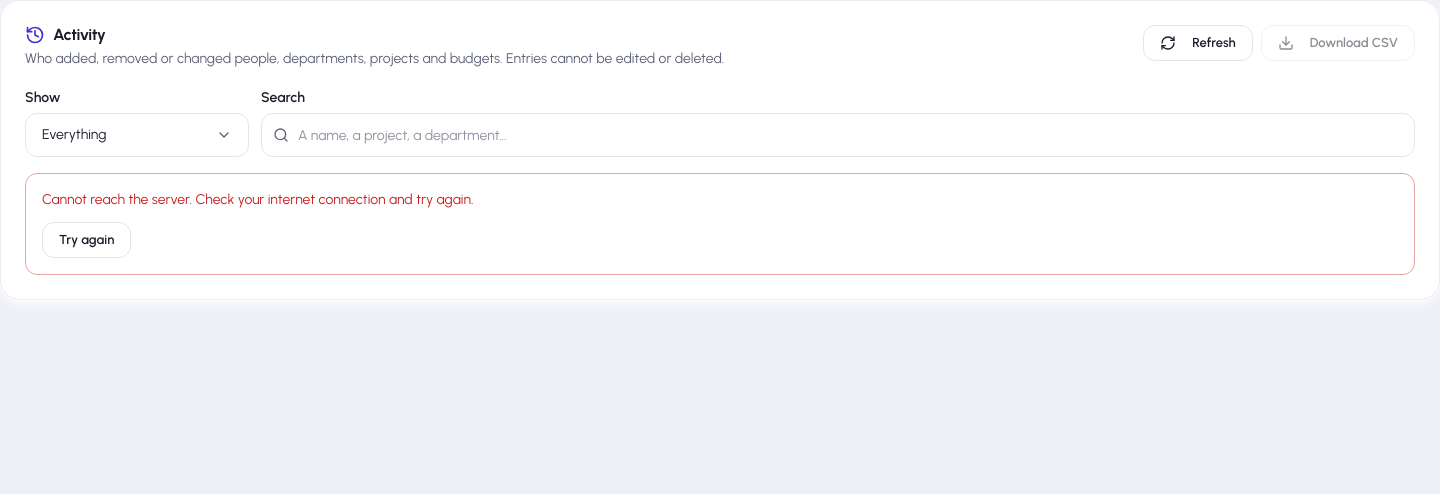
Test case: ActivityLog › a failed load can be retried
Click the button "Try again". click: coordinates (87, 240)
box: x1=42 y1=222 x2=131 y2=258
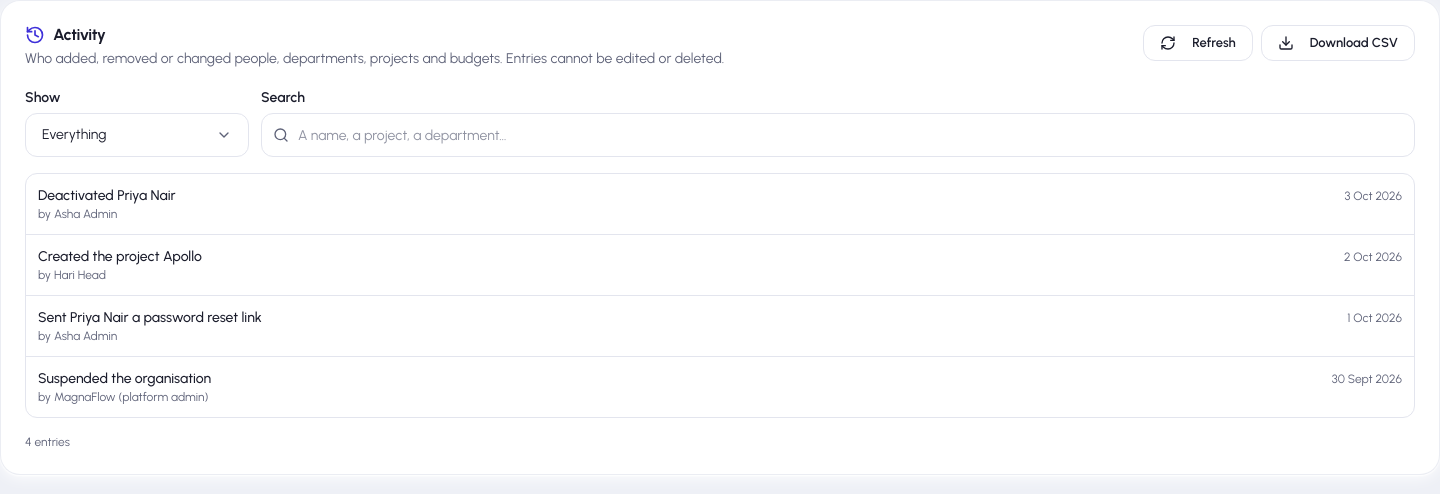
Expected: the number of list items is 4, x1=38 y1=187 x2=1402 y2=221; x1=26 y1=234 x2=1414 y2=295; x1=26 y1=295 x2=1414 y2=356; x1=26 y1=356 x2=1414 y2=417
